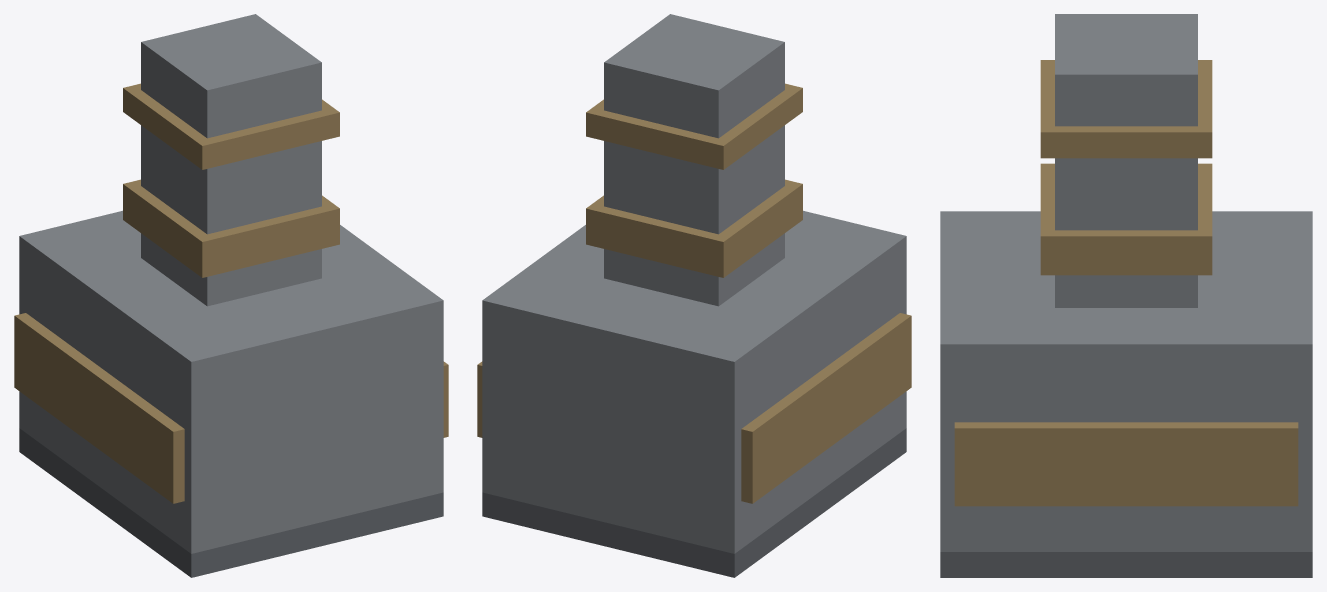
The model's file is hammer.glb.
The picture shows the model from 3 angles, left to right: view 1: azimuth 30°, elevation 25°; view 2: azimuth 150°, elevation 25°; view 3: azimuth 270°, elevation 25°; orthographic projection. The views are drawn at different scales.
Bounding box in the file's own units: 24 × 36 × 26.
